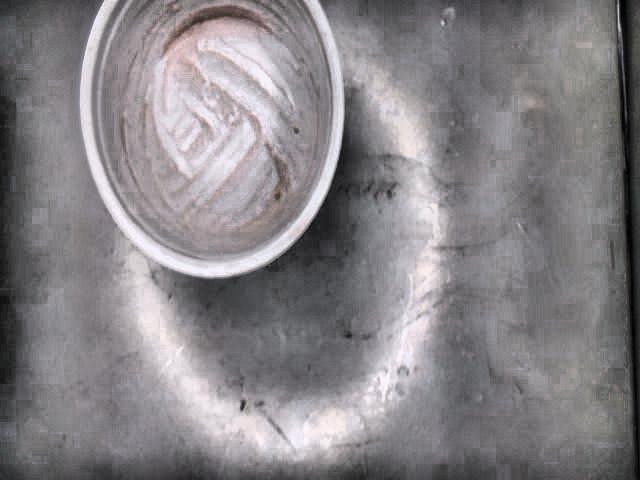Plastic: (76, 0, 346, 277)
